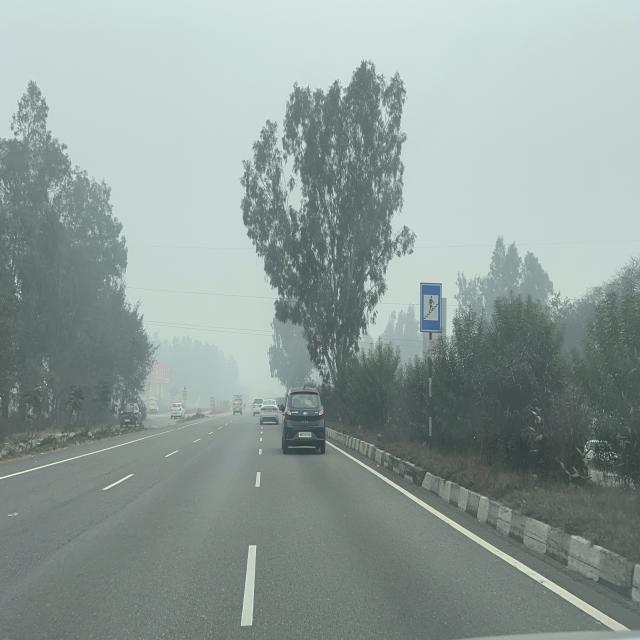INFORMATION: (420, 282, 442, 333)
